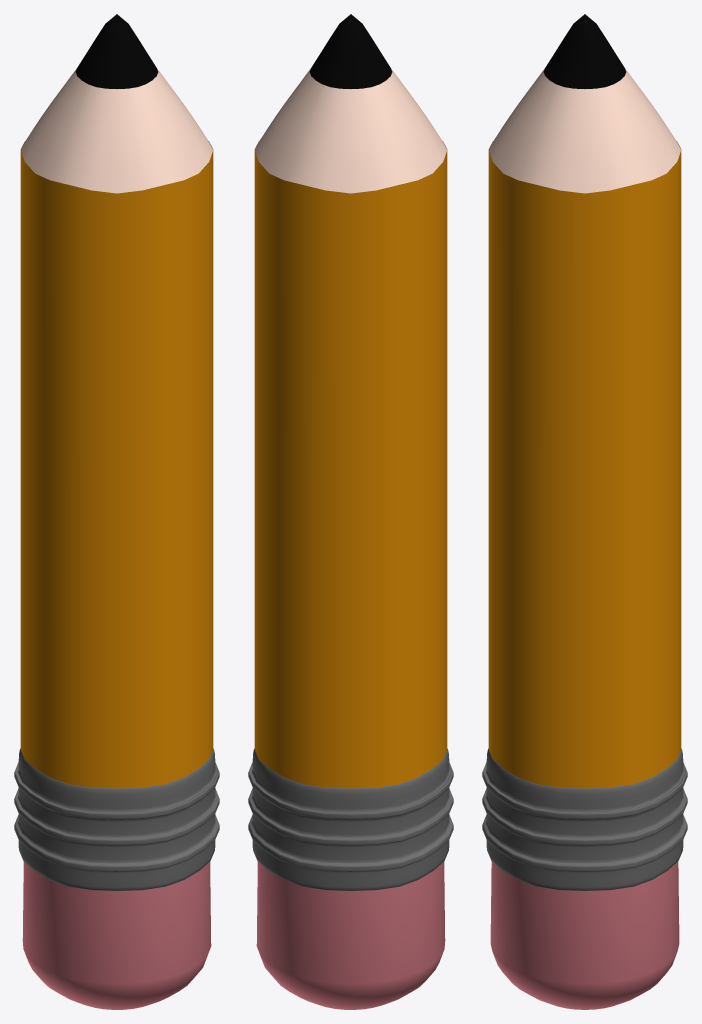
File: Pencil.fbx
3 renders of one model, left to right at view 1: azimuth 30°, elevation 25°; view 2: azimuth 150°, elevation 25°; view 3: azimuth 270°, elevation 25°, orthographic.
Parts seen in each view (by area): view 1: Circle, Cylinder, Circle.003, Circle.001, Circle.002; view 2: Circle, Cylinder, Circle.003, Circle.001, Circle.002; view 3: Circle, Cylinder, Circle.003, Circle.001, Circle.002.
Boxes of the visible parts, x1,y1,x2,y2 form: Circle: [20, 141, 213, 788]; Cylinder: [22, 861, 211, 1009]; Circle.003: [14, 748, 219, 890]; Circle.001: [21, 68, 212, 193]; Circle.002: [75, 14, 158, 88]; Circle: [254, 141, 447, 788]; Cylinder: [256, 861, 445, 1009]; Circle.003: [248, 748, 453, 890]; Circle.001: [255, 68, 446, 193]; Circle.002: [309, 14, 392, 88]; Circle: [488, 141, 681, 788]; Cylinder: [490, 861, 679, 1009]; Circle.003: [482, 748, 687, 890]; Circle.001: [489, 68, 680, 193]; Circle.002: [543, 14, 626, 88].
Bounding box in the file's own units: 173 × 939 × 177.
